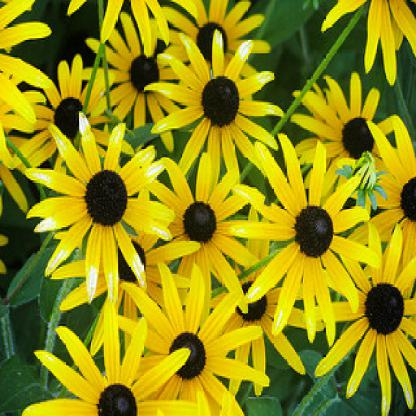SUN FLOWER: (2, 15, 407, 405)
